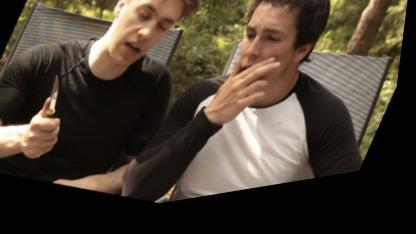knife: (21, 65, 91, 152)
